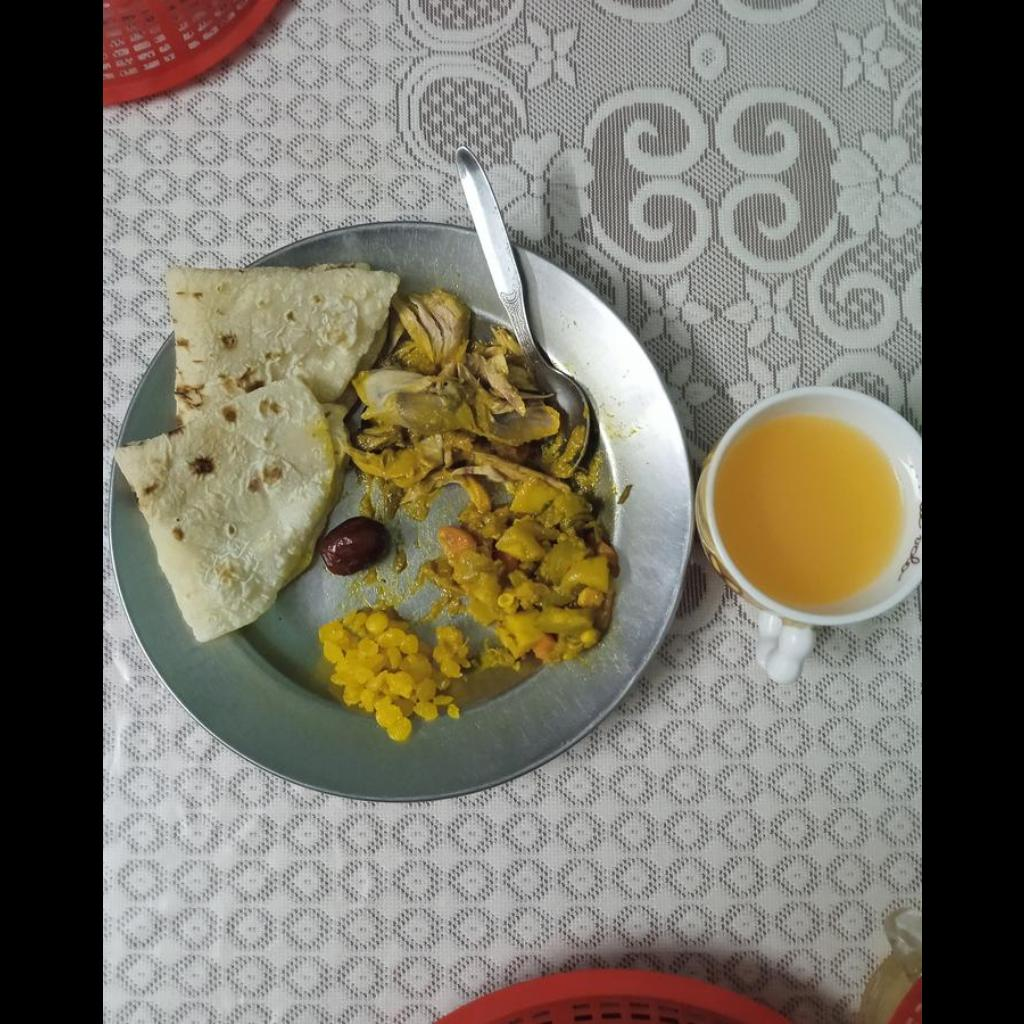burinda: (321, 616, 469, 736)
chicken: (369, 299, 584, 512)
dates: (318, 517, 389, 576)
juice: (716, 426, 910, 609)
ruti: (115, 266, 386, 650)
vegetable: (402, 451, 617, 662)
